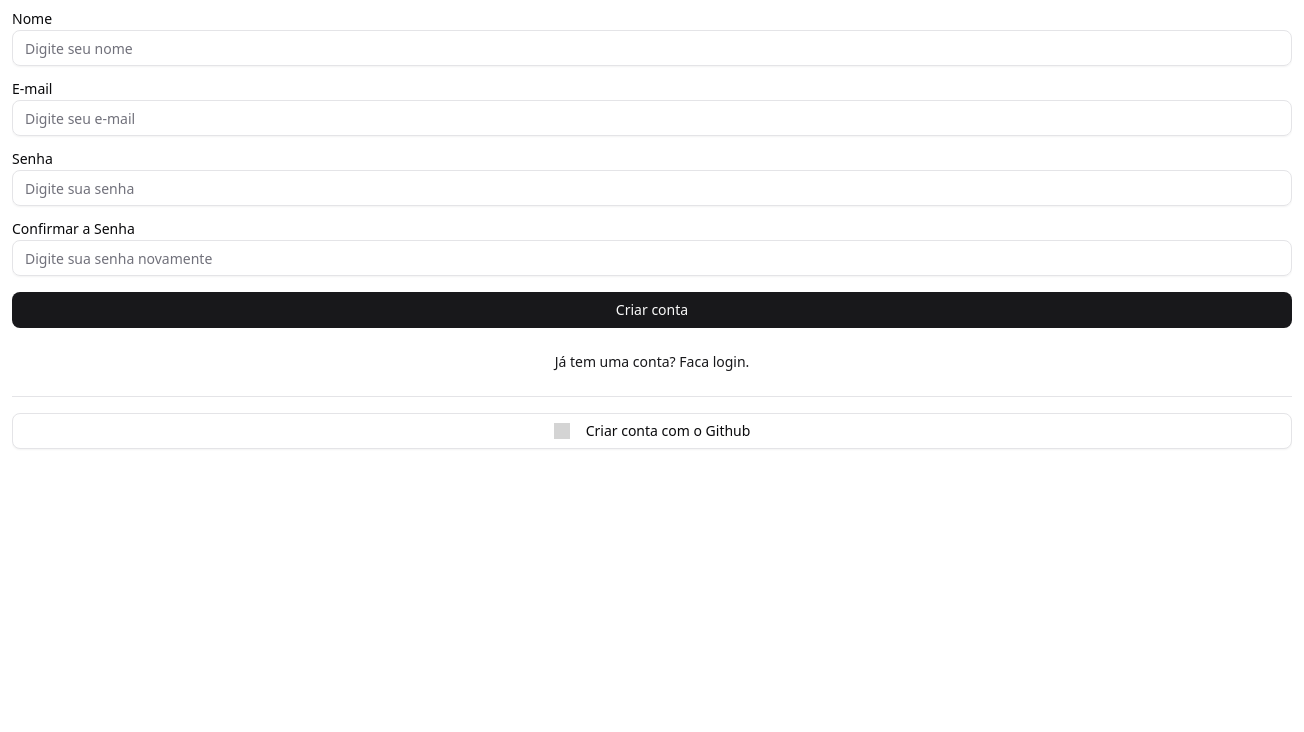
Test: <SignUpForm /> › should not show success alert when there are errors
The image size is (1304, 732).
Click the button "Criar conta". click: (652, 310)
box: [12,292,1292,328]
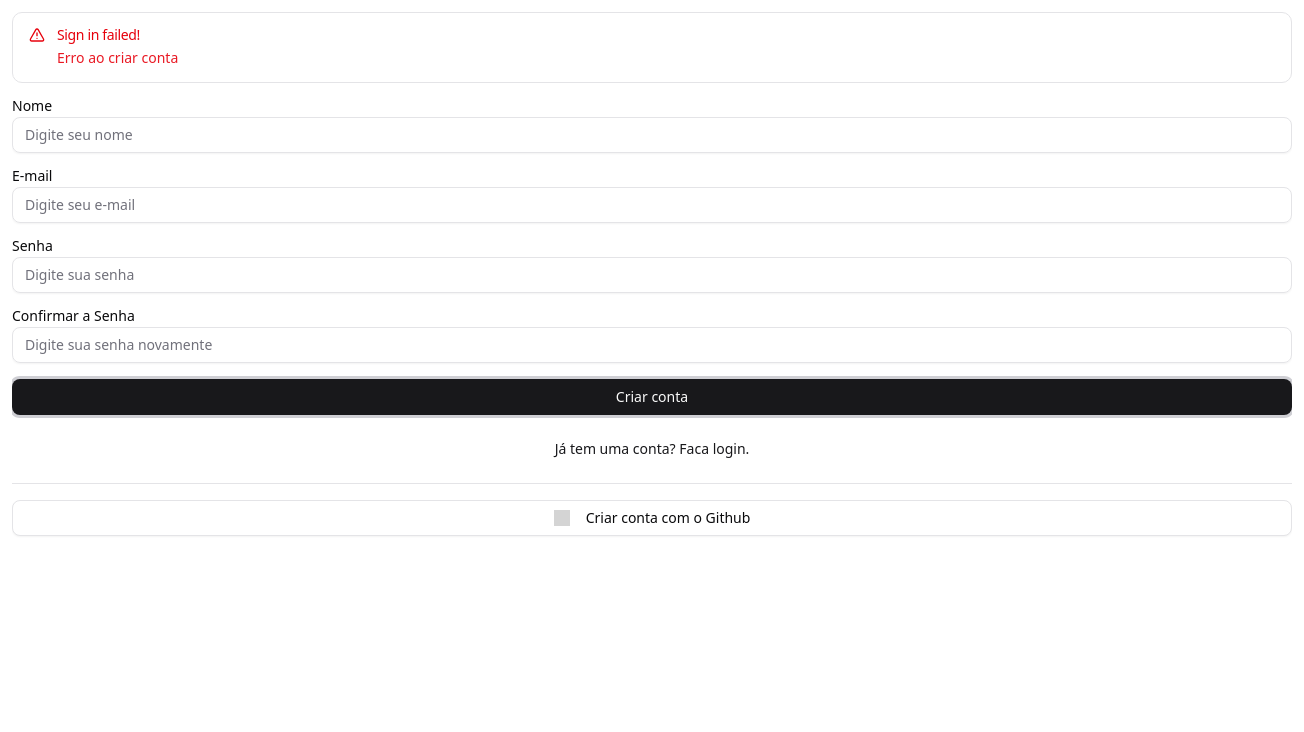
Now the message "Sign in failed! Erro ao criar conta" is shown, box [12,12,1292,83]
Now the text "Sign in failed!" is shown, box [57,25,140,44]
